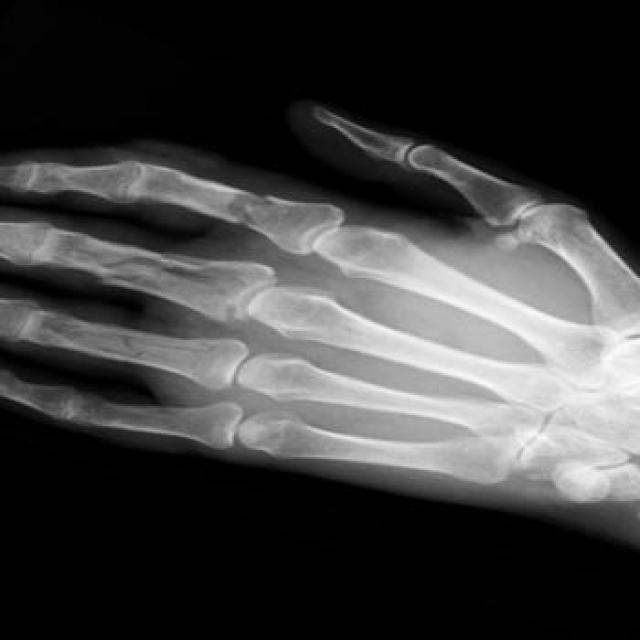Fracture: (93, 249, 228, 300), (86, 322, 220, 370)
